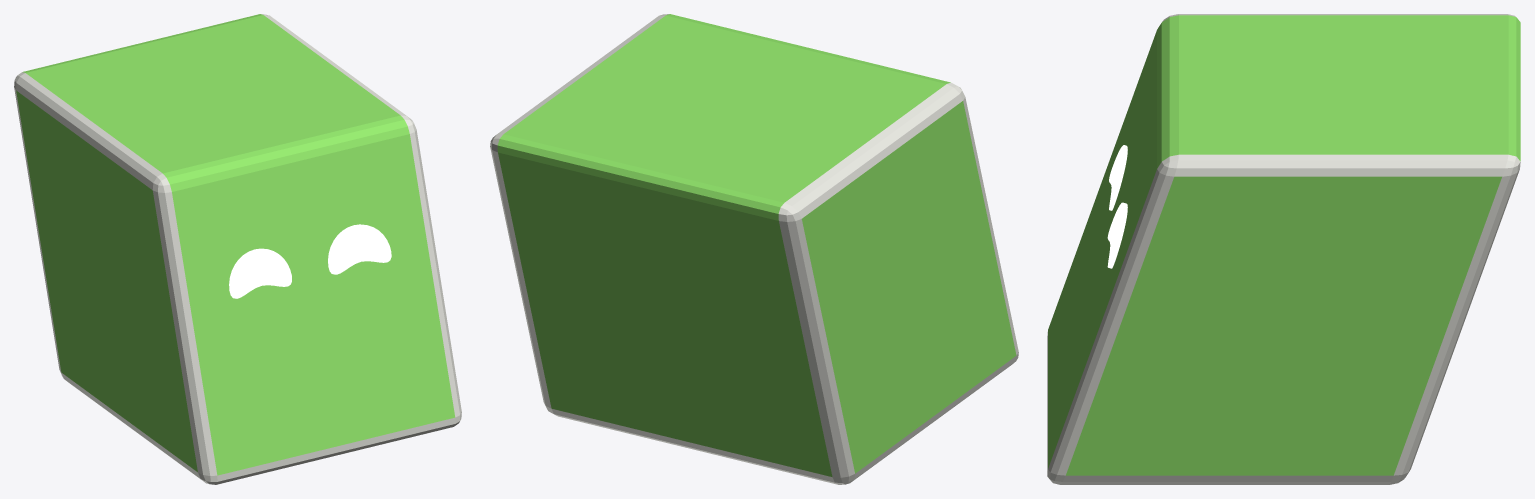
The model's file is Head.glb.
3 views of the same model, side by side, from view 1: azimuth 30°, elevation 25°; view 2: azimuth 150°, elevation 25°; view 3: azimuth 270°, elevation 25° (orthographic). The views are drawn at different scales.
Visible parts, largest first — view 1: Cube, Cylinder.001, Cylinder; view 2: Cube; view 3: Cube, Cylinder.001, Cylinder.
Part boxes in pixels (x1,y1,x2,y2): Cube: (14,14,461,484); Cylinder.001: (328,224,391,274); Cylinder: (229,248,291,298); Cube: (490,14,1018,484); Cube: (1047,14,1520,484); Cylinder.001: (1107,202,1127,268); Cylinder: (1109,145,1127,210).
Size of the model in its own units: 1 by 1 by 1.3.
